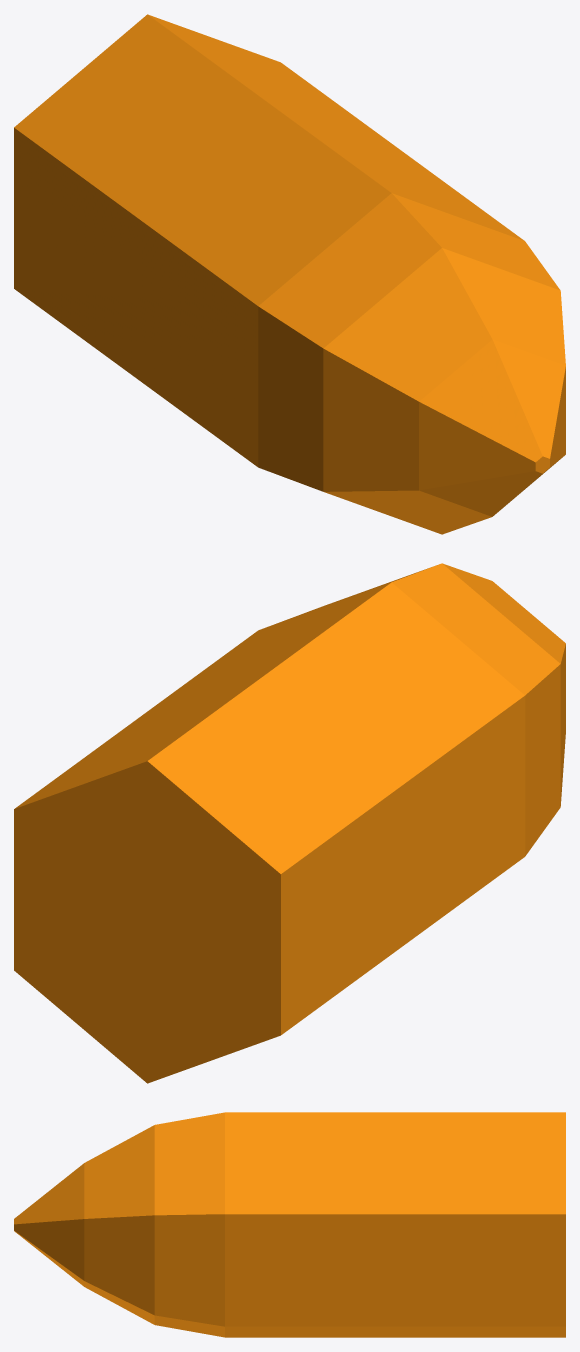
File: bullet.fbx
3 views of the same model, one above another, from view 1: azimuth 30°, elevation 25°; view 2: azimuth 150°, elevation 25°; view 3: azimuth 270°, elevation 25° (orthographic). The views are drawn at different scales.
Parts seen in each view (by area): view 1: bullet; view 2: bullet; view 3: bullet.
Boxes of the visible parts, x1,y1,x2,y2 form: bullet: [14, 14, 565, 534]; bullet: [14, 563, 565, 1083]; bullet: [14, 1112, 565, 1337].
Size of the model in its own units: 1.56 by 1.8 by 4.
